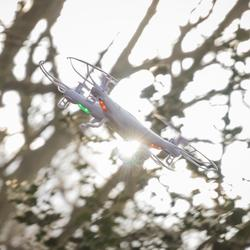drone: (35, 56, 222, 176)
